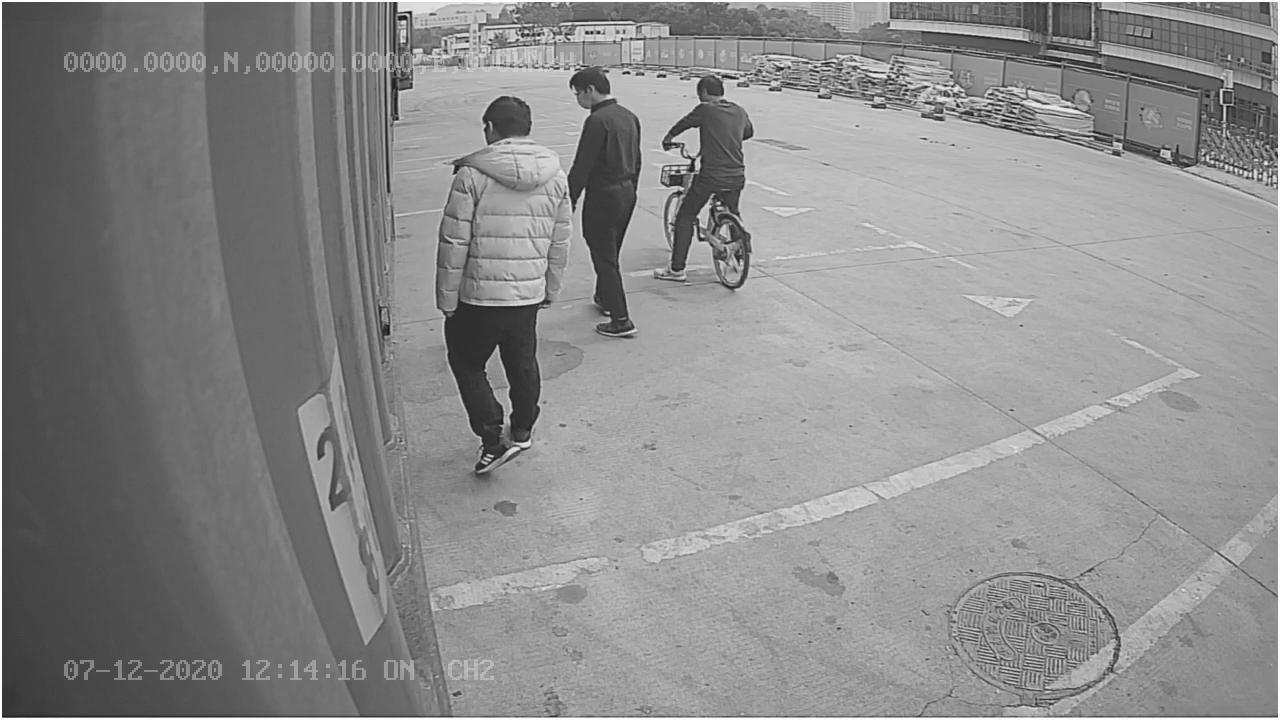person: (428, 93, 577, 479)
